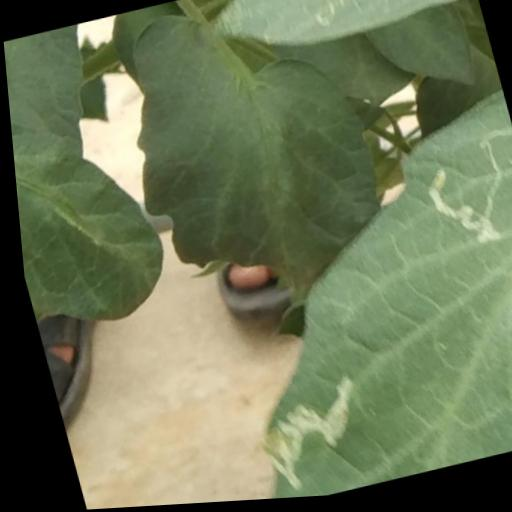Healthy: (97, 0, 408, 339), (6, 75, 174, 338)
Leaf_Miner: (167, 87, 512, 505)
